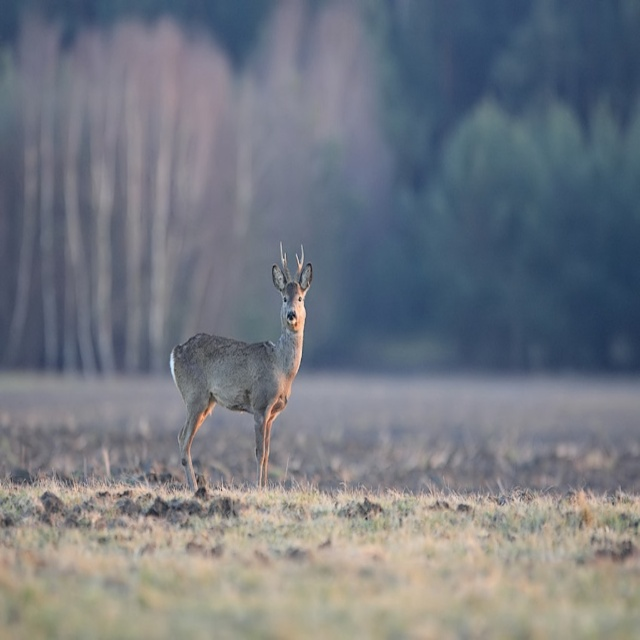Deer: (172, 241, 312, 487)
